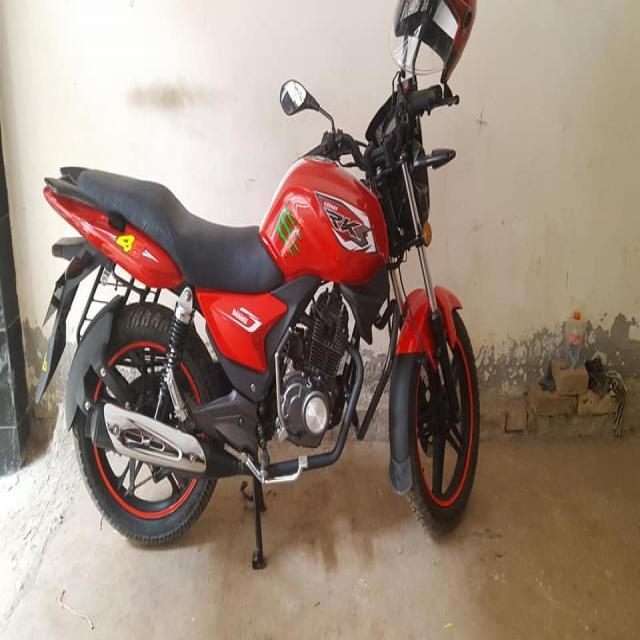Motorbike: (22, 1, 514, 588)
